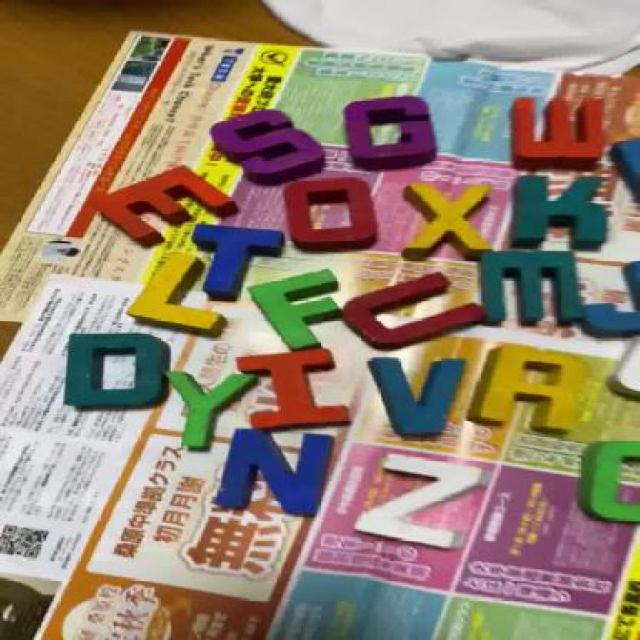D: (61, 329, 178, 411)
E: (96, 165, 236, 240)
F: (253, 272, 345, 353)
G: (342, 96, 430, 167)
I: (233, 352, 350, 433)
K: (514, 176, 606, 244)
L: (126, 254, 220, 332)
M: (477, 249, 577, 328)
N: (213, 430, 341, 518)
O: (281, 176, 379, 250)
R: (470, 343, 592, 431)
S: (214, 110, 328, 182)
T: (195, 222, 282, 304)
U: (352, 272, 474, 346)
V: (359, 355, 475, 433)
W: (504, 96, 607, 169)
X: (407, 185, 491, 260)
Y: (163, 370, 257, 450)
Z: (364, 445, 484, 546)
